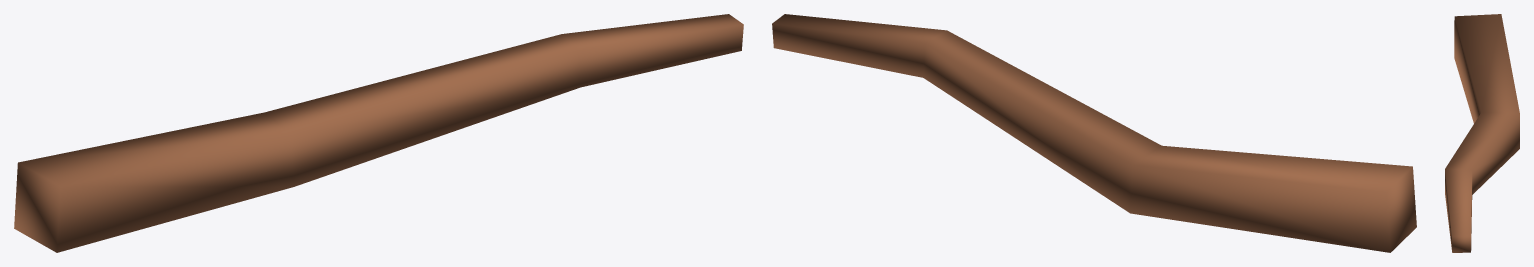
File: Stick_Brown_1.fbx
The picture shows the model from 3 angles, left to right: view 1: azimuth 30°, elevation 25°; view 2: azimuth 150°, elevation 25°; view 3: azimuth 270°, elevation 25°; orthographic projection. The views are drawn at different scales.
Visible parts, largest first — view 1: Stick_Brown_1; view 2: Stick_Brown_1; view 3: Stick_Brown_1.
Boxes of the visible parts, box(x1,y1,x2,y2) form: Stick_Brown_1: box(14, 14, 743, 252); Stick_Brown_1: box(772, 14, 1416, 252); Stick_Brown_1: box(1445, 14, 1519, 252).
Bounding box in the file's own units: 197 × 25.7 × 28.14.
